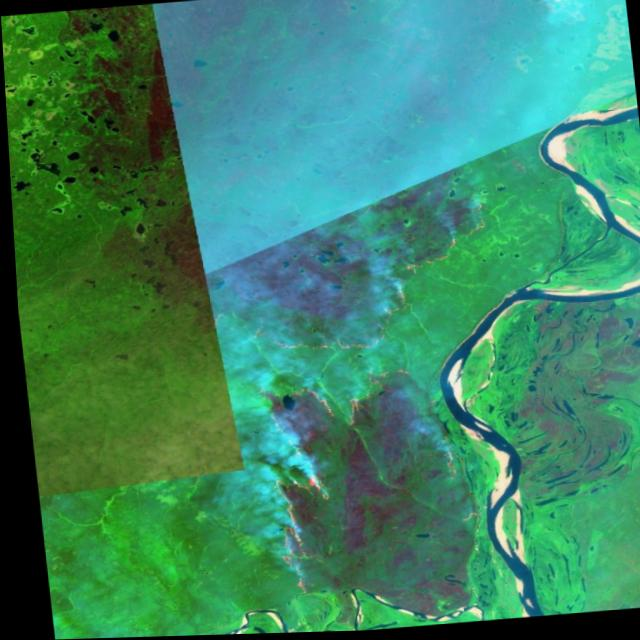fire: (230, 200, 500, 364), (242, 365, 428, 597), (518, 0, 569, 11)
